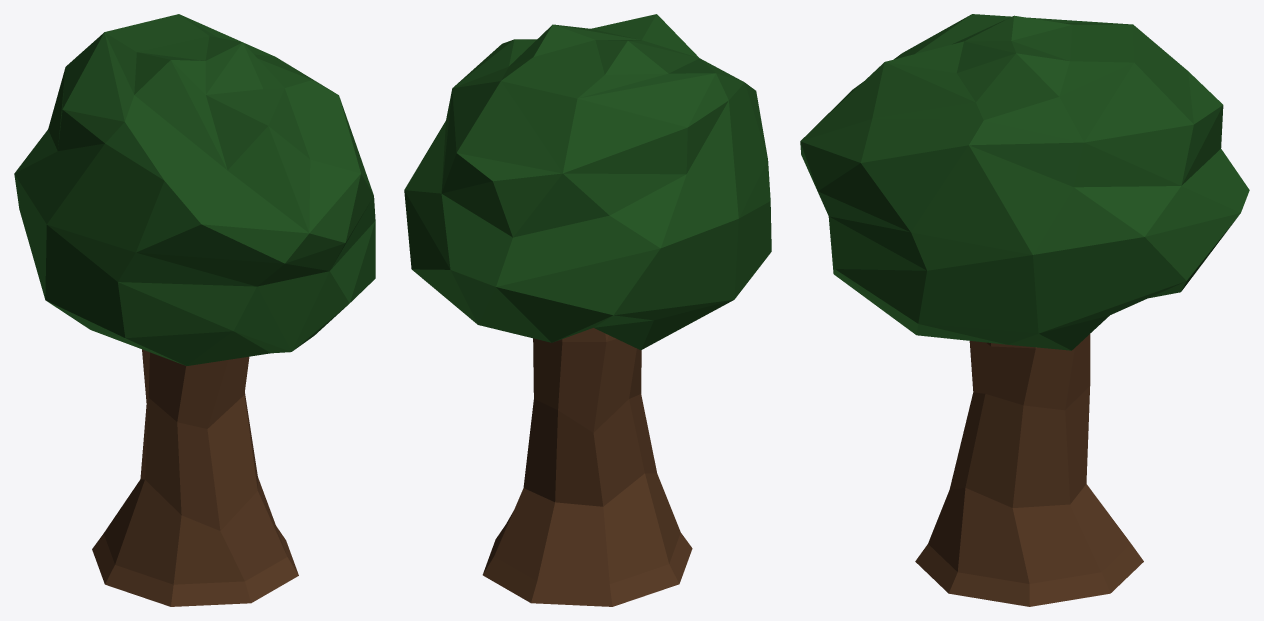
File: oak2.fbx
3 renders of one model, left to right at view 1: azimuth 30°, elevation 25°; view 2: azimuth 150°, elevation 25°; view 3: azimuth 270°, elevation 25°, orthographic. The views are drawn at different scales.
Visible parts, largest first — view 1: Sphere; view 2: Sphere; view 3: Sphere.
Boxes of the visible parts, x1=… form: Sphere: x1=14, y1=14, x2=375, y2=606; Sphere: x1=404, y1=14, x2=771, y2=606; Sphere: x1=800, y1=14, x2=1249, y2=606.
Bounding box in the file's own units: 198 × 328 × 252.
